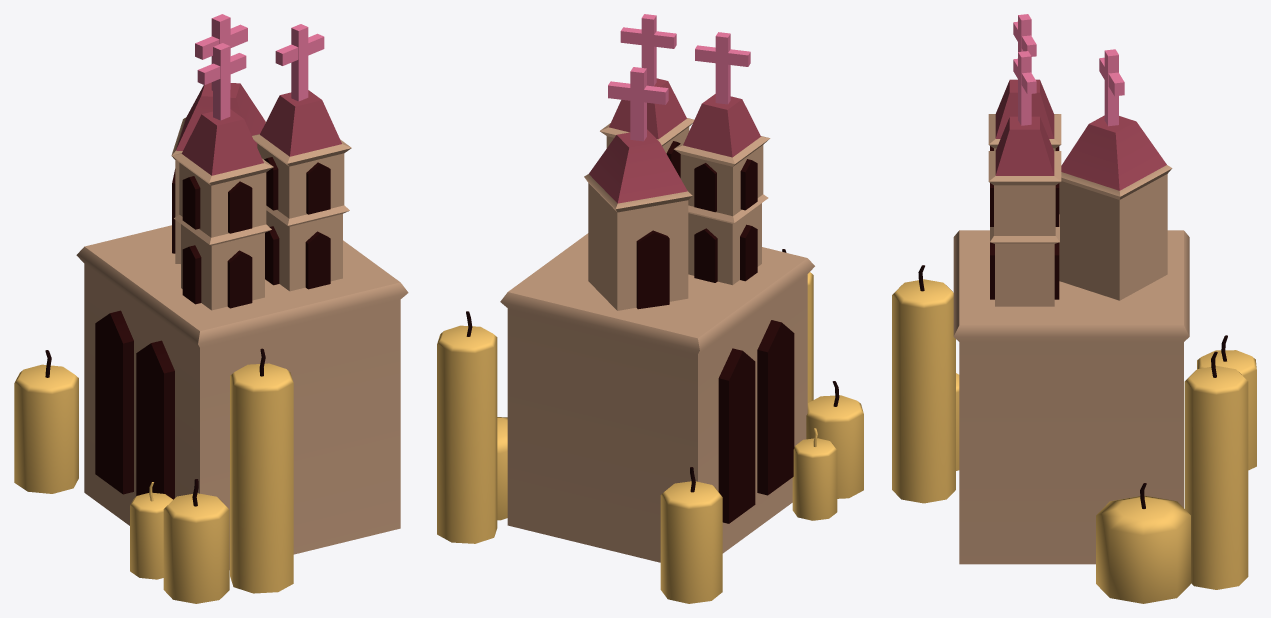
Rendered from SM_Deco_House.fbx.
3 renders of one model, left to right at view 1: azimuth 30°, elevation 25°; view 2: azimuth 150°, elevation 25°; view 3: azimuth 270°, elevation 25°, orthographic. The views are drawn at different scales.
Visible parts, largest first — view 1: polySurface48; view 2: polySurface48; view 3: polySurface48.
Boxes of the visible parts, x1=… form: polySurface48: x1=14, y1=14, x2=408, y2=603; polySurface48: x1=437, y1=14, x2=863, y2=603; polySurface48: x1=892, y1=14, x2=1256, y2=603.
Size of the model in its own units: 11.6 by 16.53 by 11.42.
